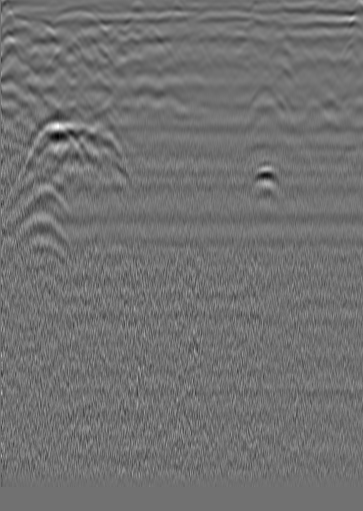가스: (246, 165, 283, 201)
상수: (0, 40, 20, 60)
오수: (317, 24, 337, 44)
우수: (154, 31, 174, 51)
